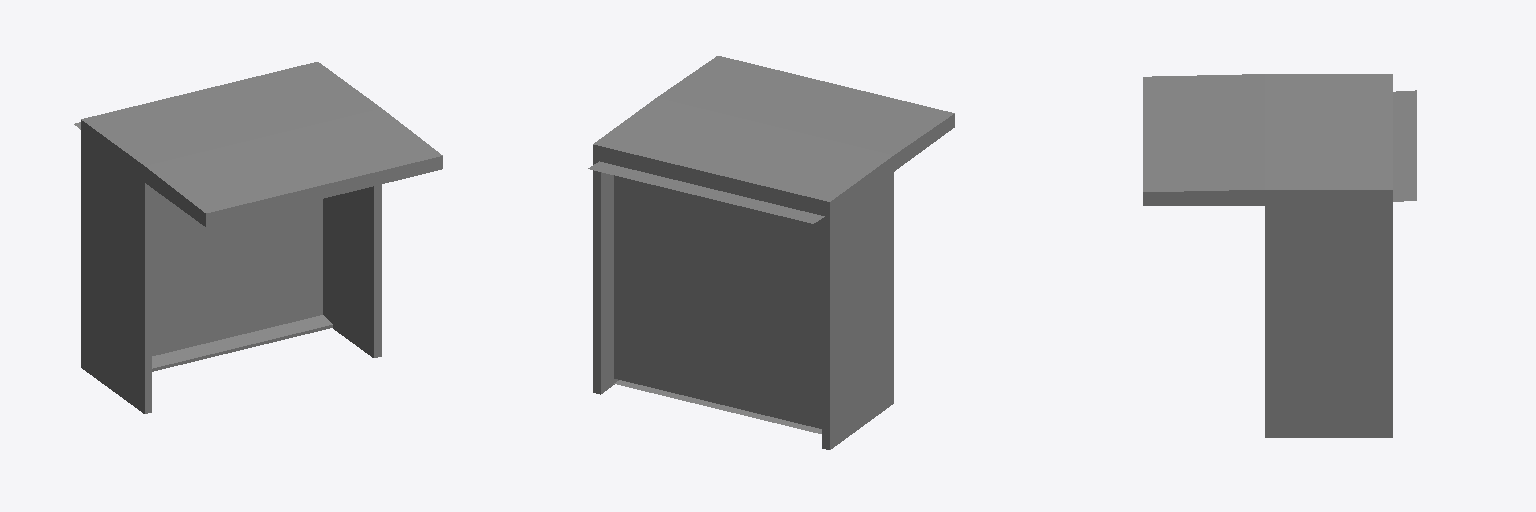
File: door_garage.obj
The picture shows the model from 3 angles: view 1: azimuth 30°, elevation 25°; view 2: azimuth 150°, elevation 25°; view 3: azimuth 270°, elevation 25°; orthographic projection.
Visible parts, largest first — view 1: Box020; view 2: Box020; view 3: Box020.
Boxes of the visible parts, x1=… form: Box020: x1=74, y1=62, x2=442, y2=413; Box020: x1=588, y1=56, x2=954, y2=449; Box020: x1=1143, y1=74, x2=1416, y2=437.
Size of the model in its own units: 12.77 by 12.78 by 12.78.